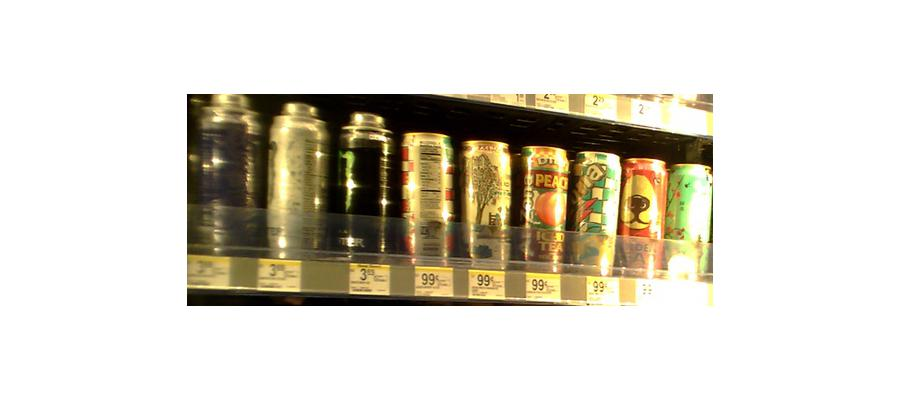bottle: (192, 88, 260, 256), (265, 101, 331, 258), (334, 112, 394, 261), (401, 129, 458, 263), (459, 137, 515, 267), (517, 138, 568, 271), (572, 147, 620, 279), (621, 153, 664, 279), (668, 160, 712, 281)
